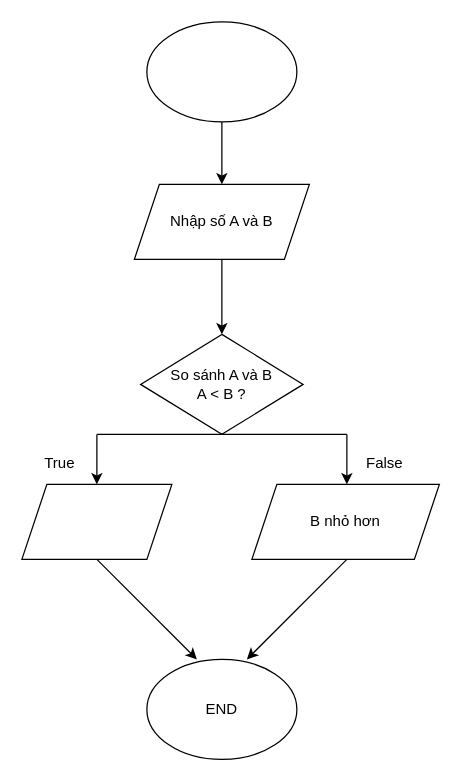
Image size: 461x781. Some labels were removed from this diagram. The centre of each missing label's shape, as x and y in pixels:
"A nhỏ hơn" belongs at point (96, 521).
"START" belongs at point (221, 71).
